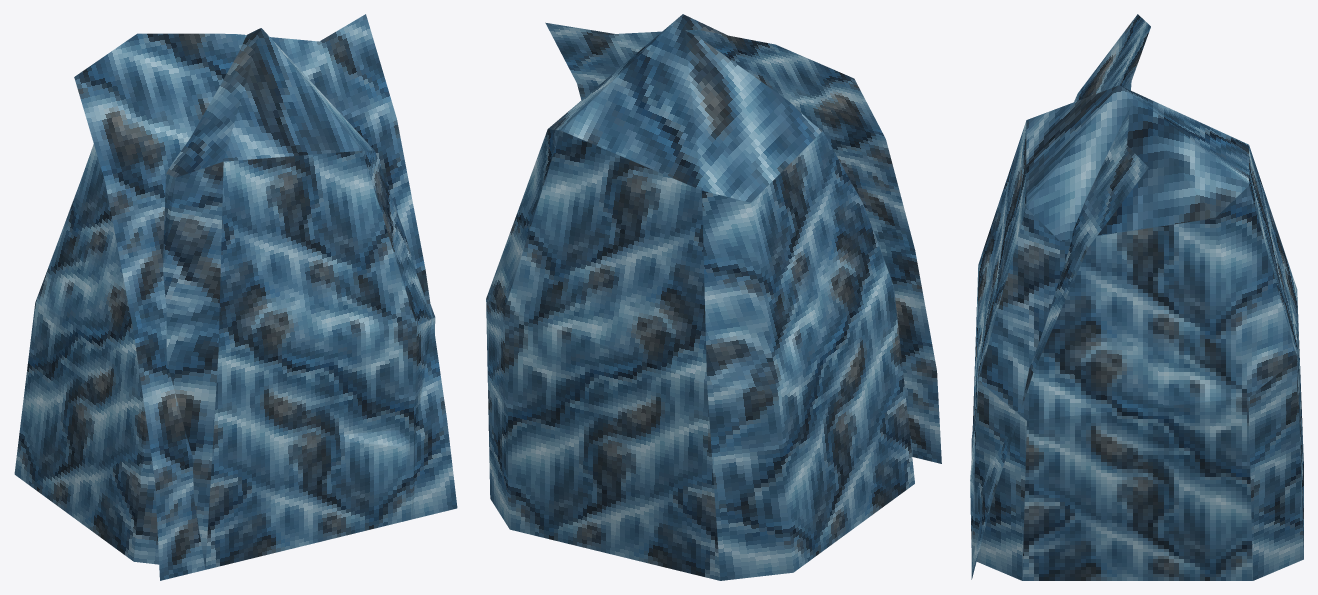
File: ice_v1_kit.glb
3 renders of one model, left to right at view 1: azimuth 30°, elevation 25°; view 2: azimuth 150°, elevation 25°; view 3: azimuth 270°, elevation 25°, orthographic. The views are drawn at different scales.
Parts seen in each view (by area): view 1: ice_fill, ice_face; view 2: ice_fill, ice_face; view 3: ice_fill, ice_face.
Part boxes in pixels (x1,y1,x2,y2): ice_fill: (14, 28, 435, 569); ice_face: (74, 14, 457, 580); ice_fill: (486, 14, 914, 580); ice_face: (545, 22, 941, 463); ice_fill: (971, 85, 1303, 580); ice_face: (970, 14, 1150, 579).
Size of the model in its own units: 73.56 by 107 by 72.32.
Materials: 1 (1 with a texture image).
